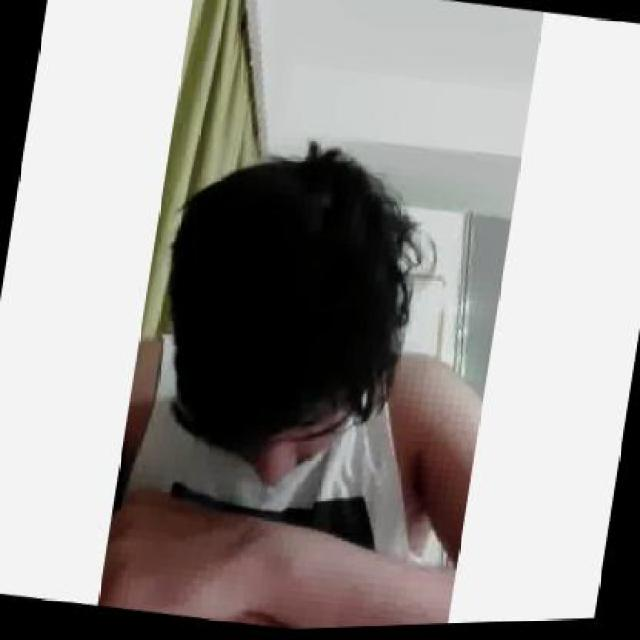inattentif: (140, 127, 392, 508)
